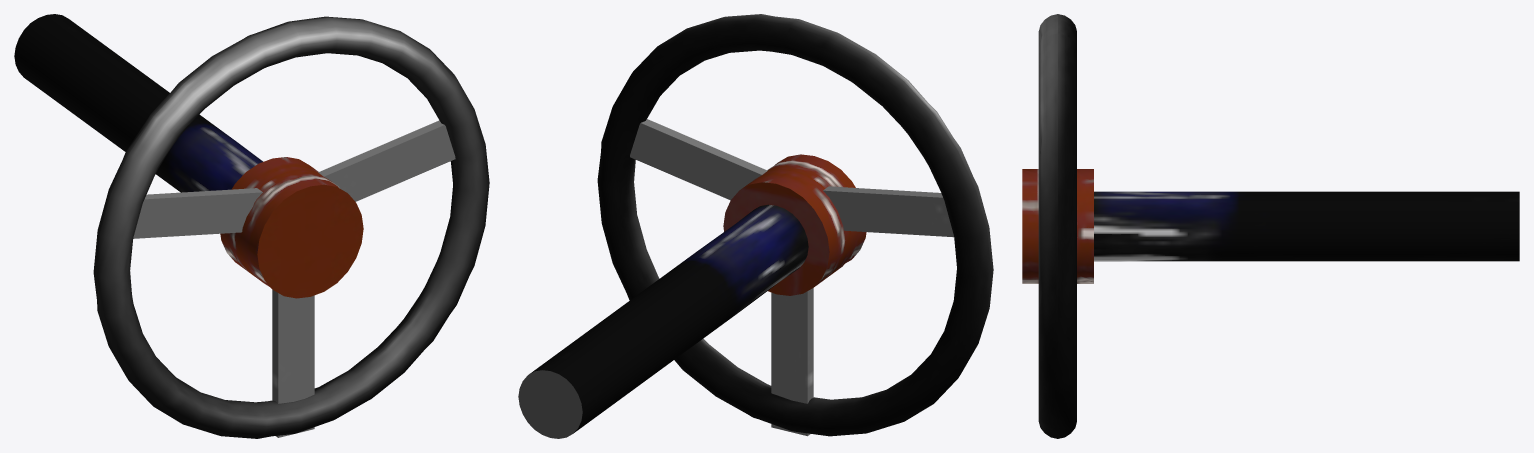
Rendered from steeringWheel.obj.
The picture shows the model from 3 angles, left to right: view 1: azimuth 30°, elevation 25°; view 2: azimuth 150°, elevation 25°; view 3: azimuth 270°, elevation 25°; orthographic projection. The views are drawn at different scales.
Visible parts, largest first — view 1: Steering_Wheel; view 2: Steering_Wheel; view 3: Steering_Wheel.
Part boxes in pixels (x1,y1,x2,y2): Steering_Wheel: [14, 14, 489, 438]; Steering_Wheel: [518, 14, 993, 438]; Steering_Wheel: [1022, 14, 1519, 438].
Bounding box in the file's own units: 0.4484 × 0.4484 × 0.5236.
